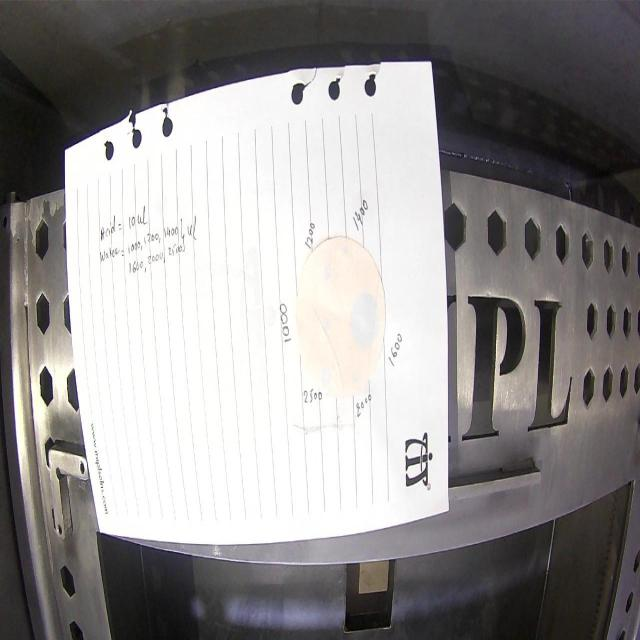BlueColor: (350, 292, 378, 348), (320, 366, 330, 383), (321, 315, 330, 332), (342, 238, 350, 257), (352, 370, 360, 384), (324, 266, 331, 282)
